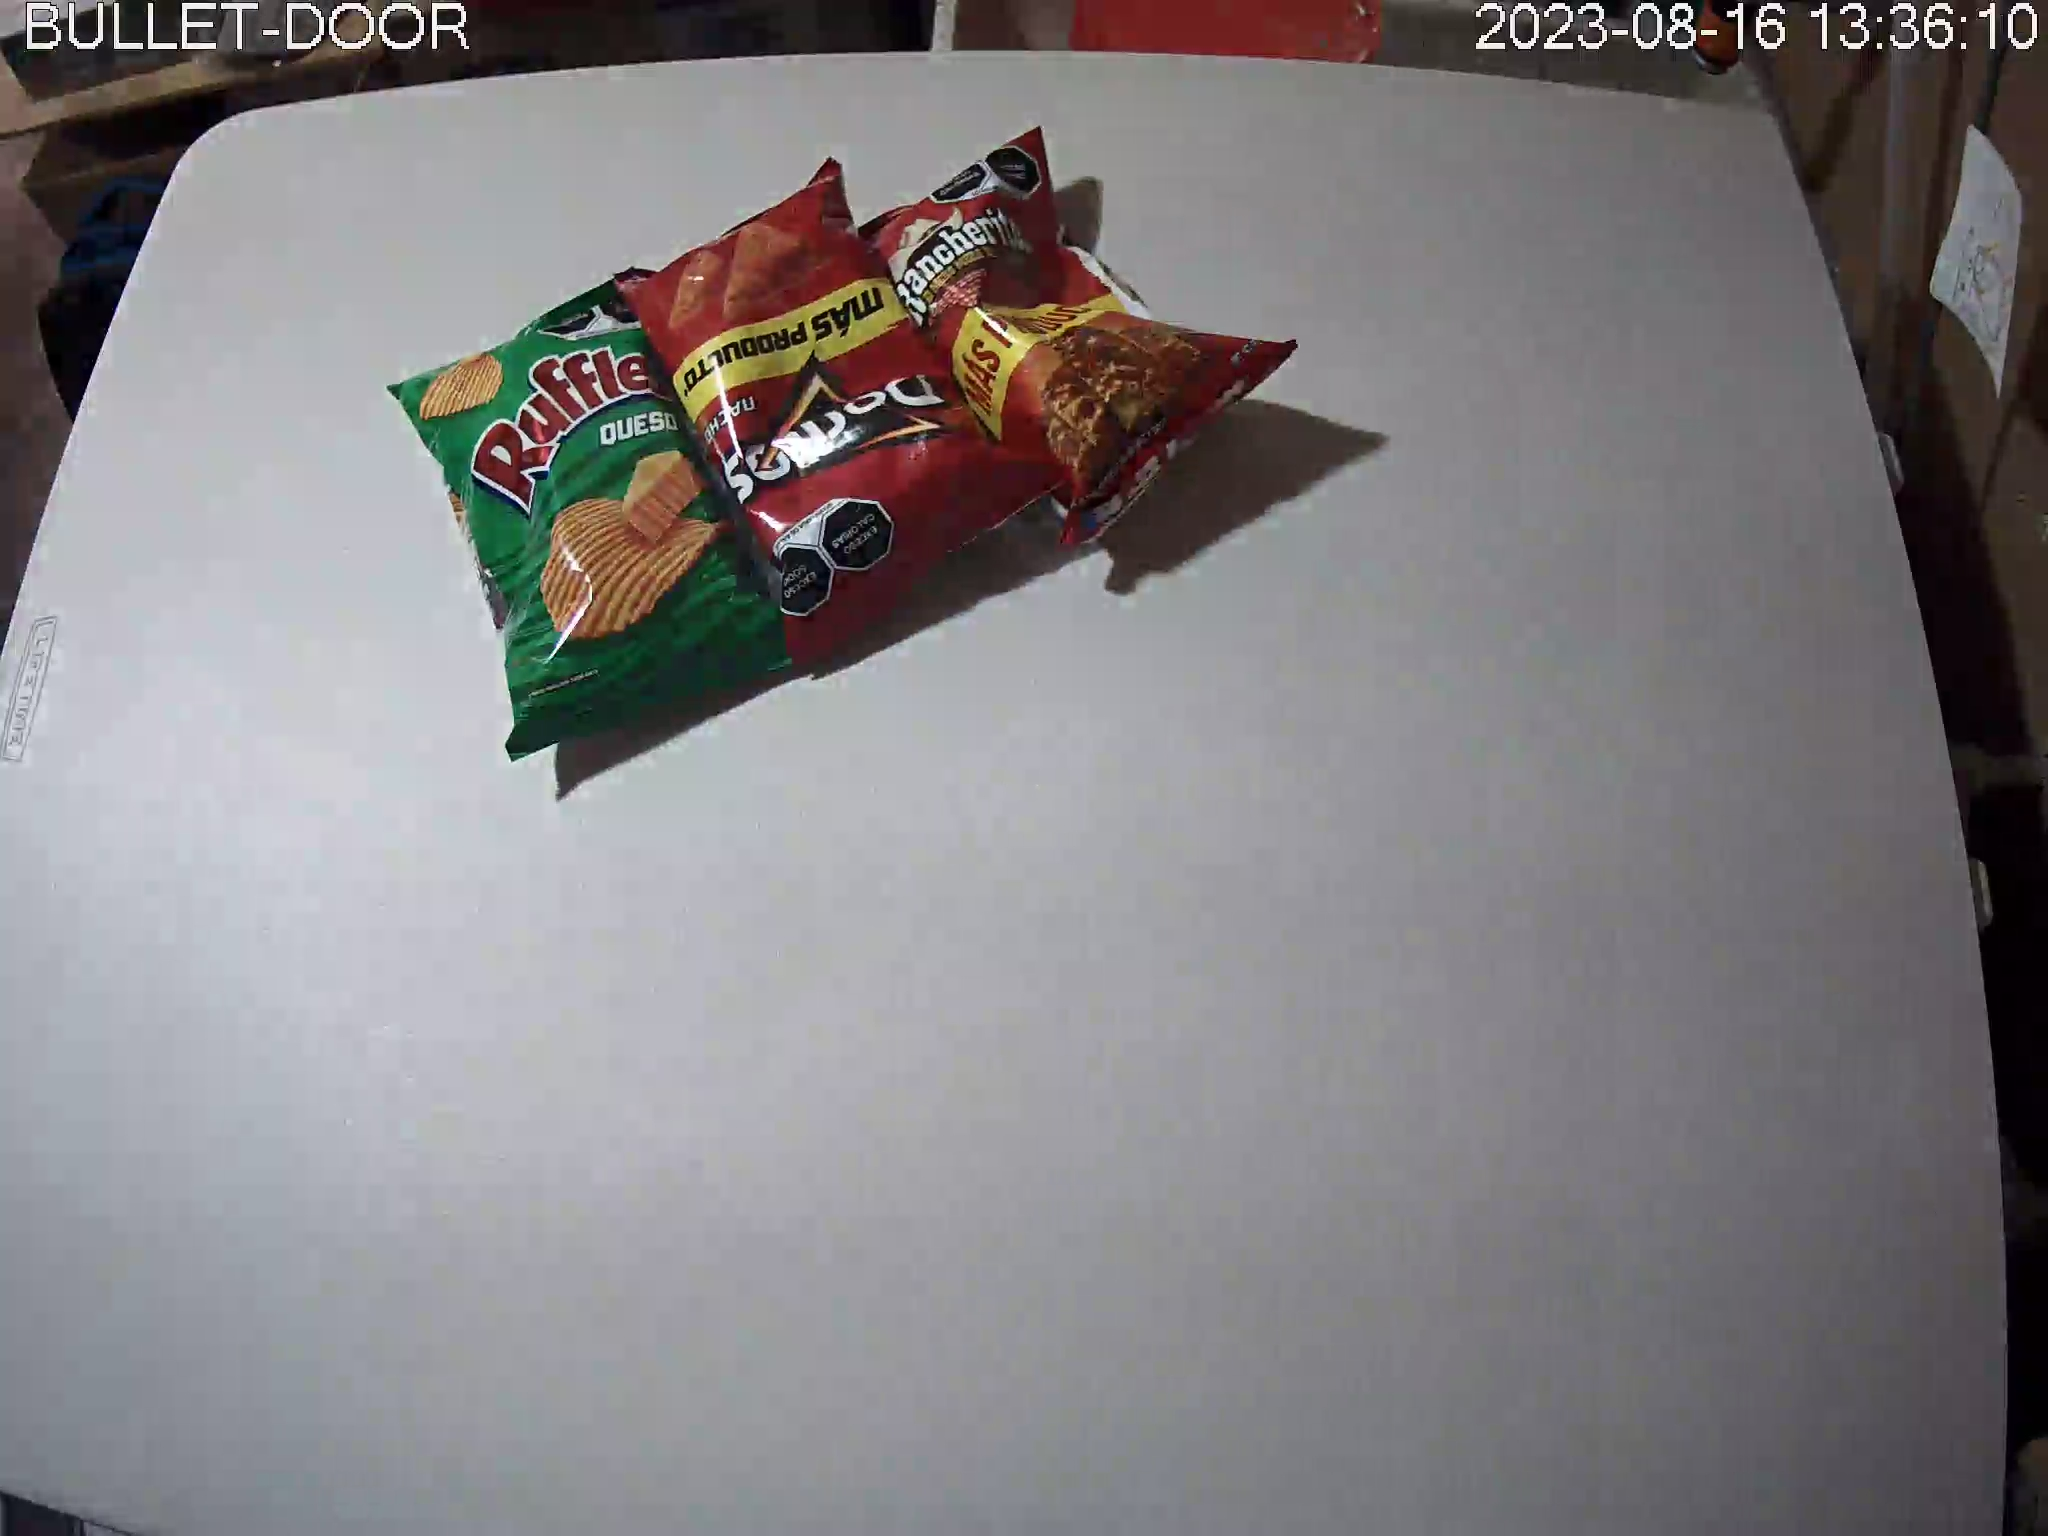DoritosN_61_F: (613, 160, 1080, 673)
Rancheritos_58_F: (837, 127, 1300, 555)
RufflesQ_48_F: (385, 269, 830, 765)
